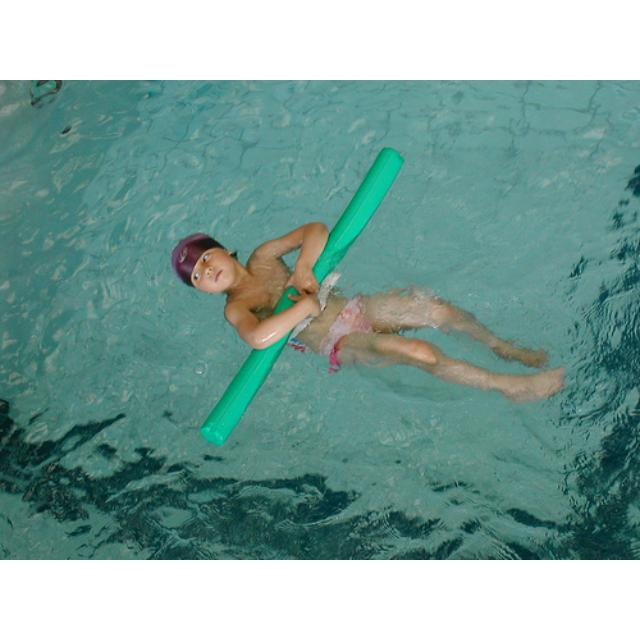human: (161, 218, 568, 416)
